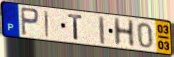0: (136, 21, 155, 49)
H: (112, 17, 136, 47)
I: (98, 15, 107, 46), (43, 10, 50, 38)
P: (20, 6, 41, 38)
T: (67, 14, 84, 42)
